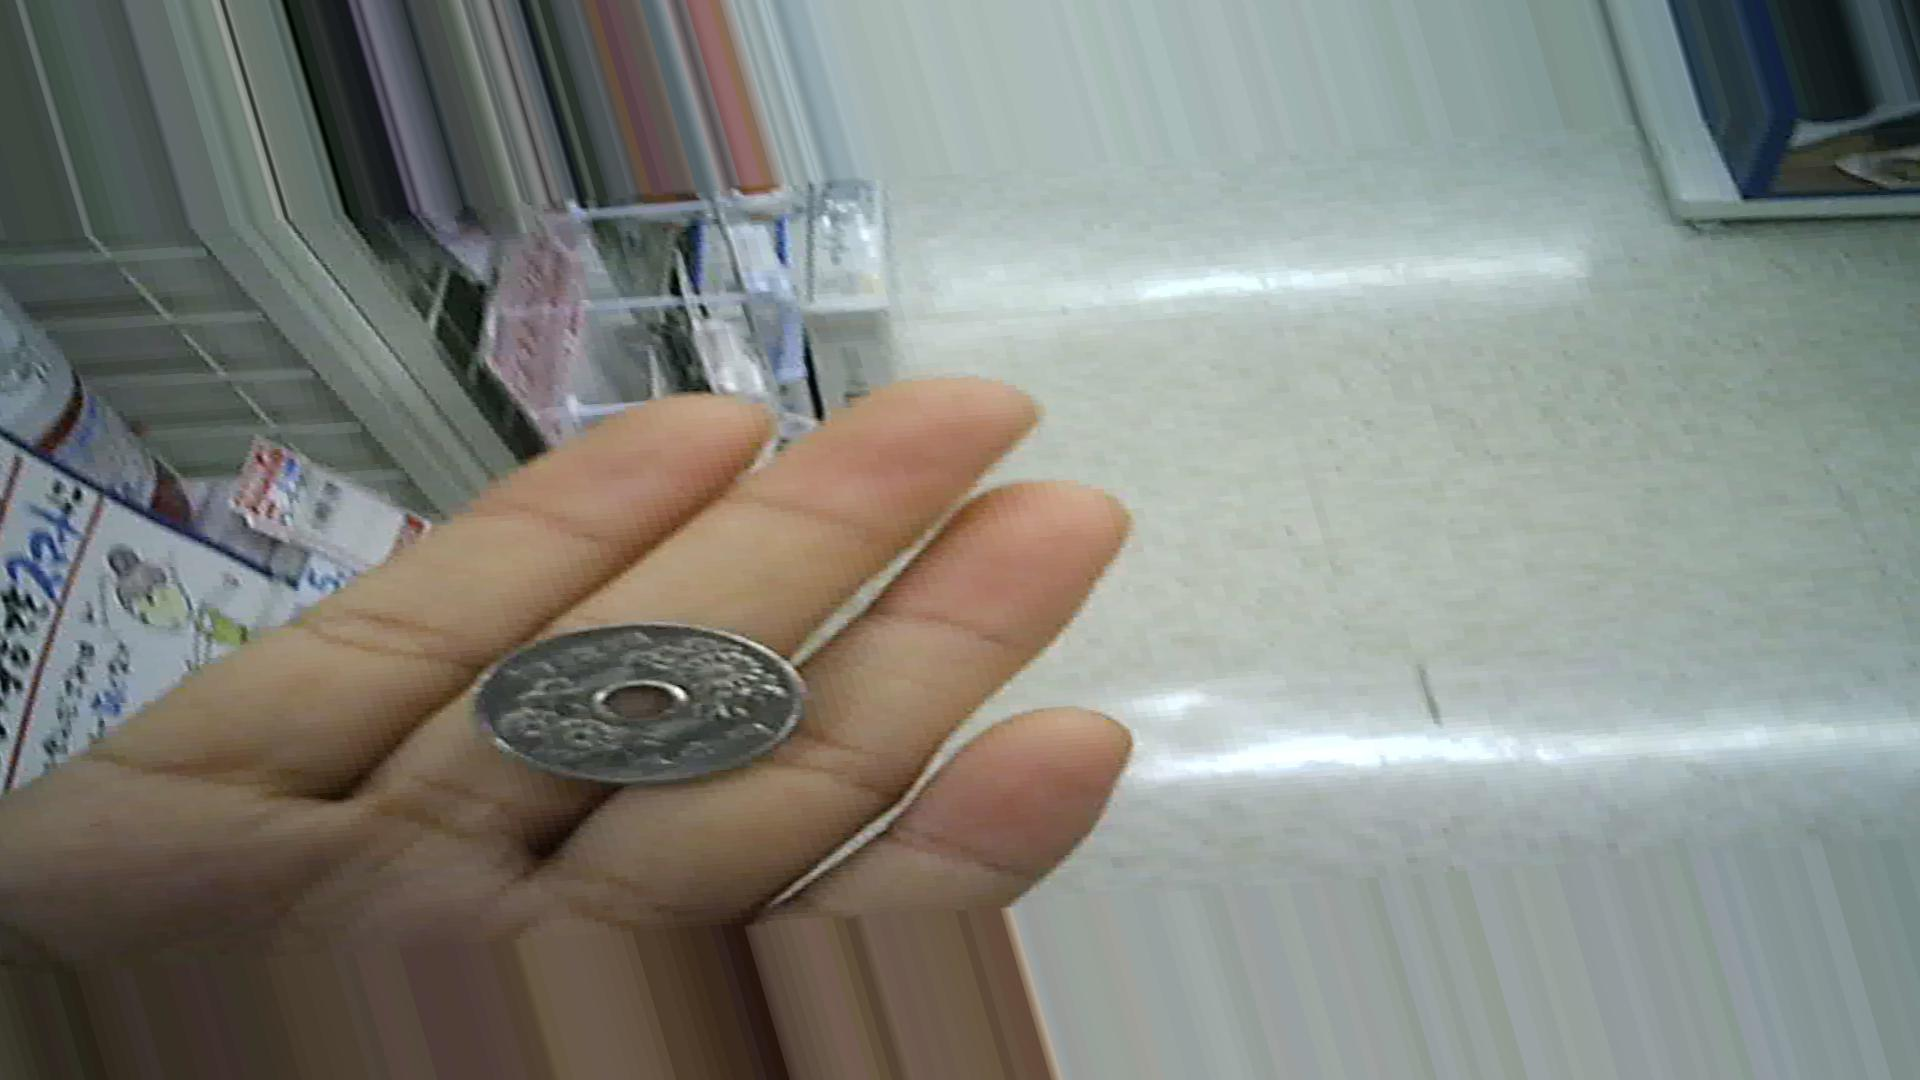50 Yen: (469, 612, 811, 804)
